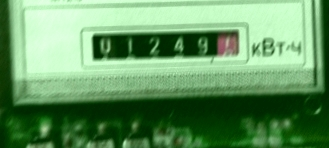0: (97, 34, 110, 54)
1: (122, 34, 132, 53)
2: (146, 34, 159, 55)
4: (171, 34, 182, 53)
7: (219, 29, 231, 49)
9: (194, 34, 207, 55)
screen: (71, 20, 247, 68)
